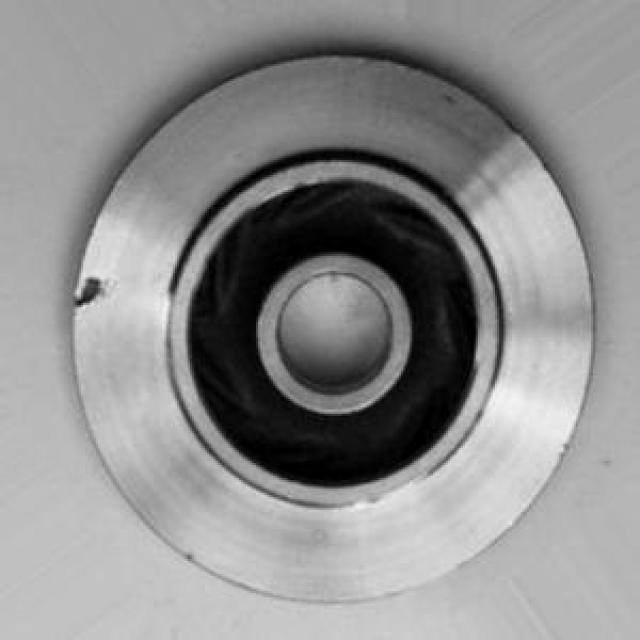Defect: (73, 276, 111, 310)
